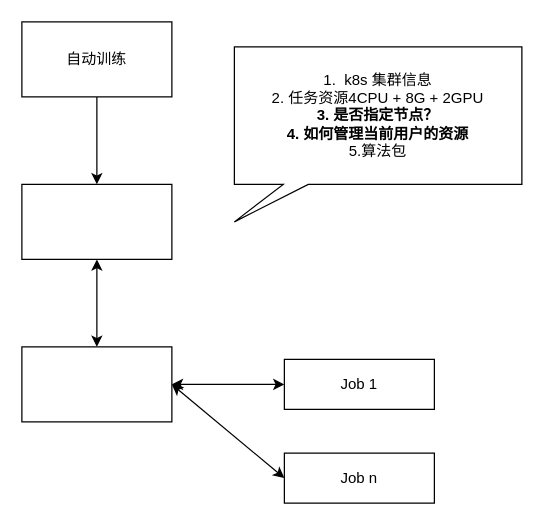
The diagram is 544 pixels wide and 525 high, and some of its shapes have lost their labels. The shapes that lost their labels are listed below. From the top down, each one's centre as x and y in pixels, then its label:
the point at 96,221: 创建训练任务
the point at 96,384: Kubeflow
